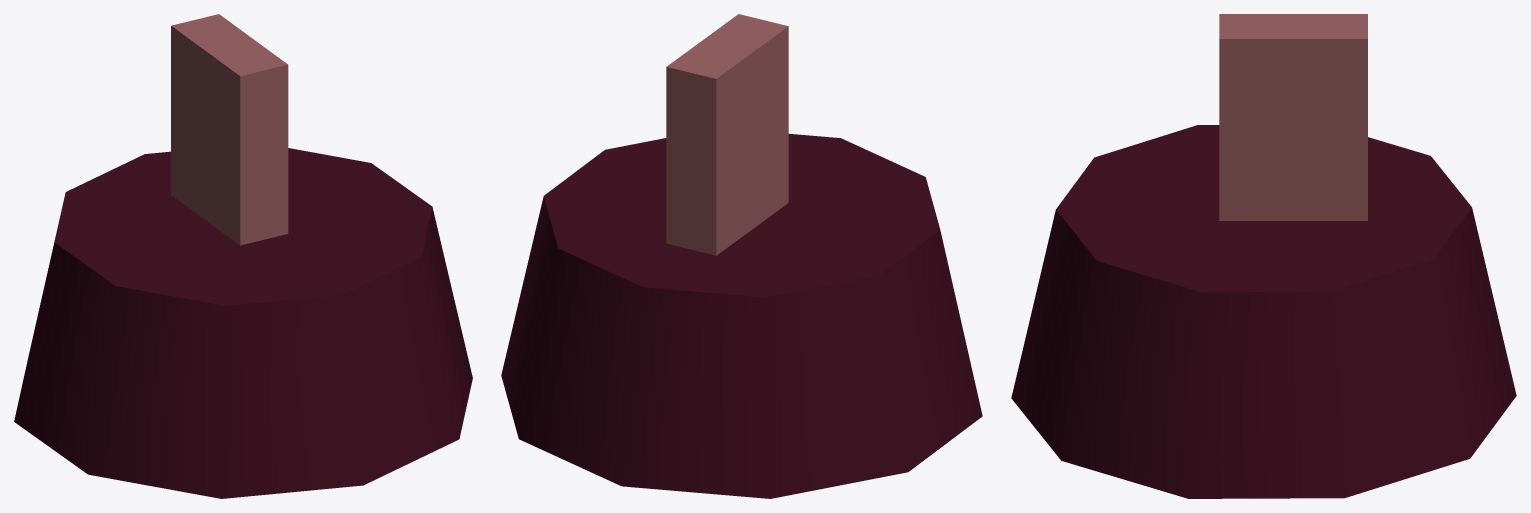
The model's file is head.glb.
3 renders of one model, left to right at view 1: azimuth 30°, elevation 25°; view 2: azimuth 150°, elevation 25°; view 3: azimuth 270°, elevation 25°, orthographic. The views are drawn at different scales.
Visible parts, largest first — view 1: helmet, crest; view 2: helmet, crest; view 3: helmet, crest.
Part boxes in pixels (x1,y1,x2,y2): helmet: (14,148,472,498); crest: (171,14,288,245); helmet: (501,133,982,498); crest: (666,14,788,255); helmet: (1011,125,1516,498); crest: (1219,14,1367,220).
Size of the model in its own units: 0.6491 by 0.55 by 0.68.
